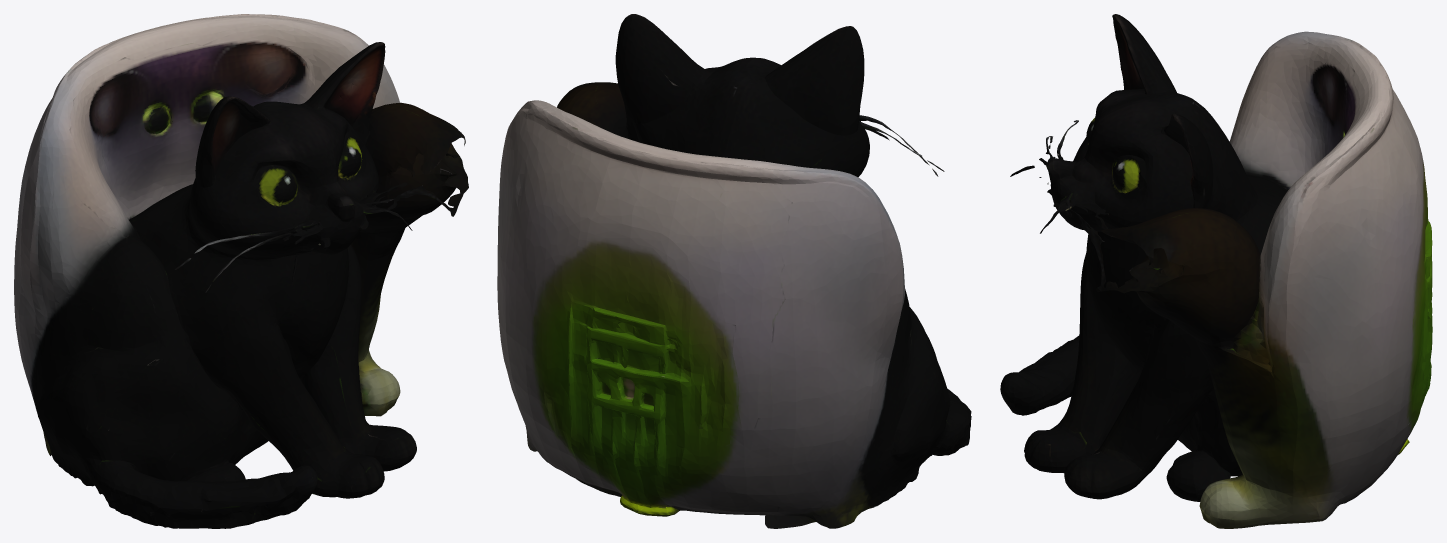
The model's file is cat-black.glb.
3 views of the same model, side by side, from view 1: azimuth 30°, elevation 25°; view 2: azimuth 150°, elevation 25°; view 3: azimuth 270°, elevation 25° (orthographic). The views are drawn at different scales.
Parts seen in each view (by area): view 1: world; view 2: world; view 3: world.
Part boxes in pixels (x1,y1,x2,y2): world: (14, 14, 468, 528); world: (497, 14, 971, 528); world: (1000, 14, 1432, 528).
Bounding box in the file's own units: 0.998 × 0.9983 × 0.9524.
1 material, 1 textured.
